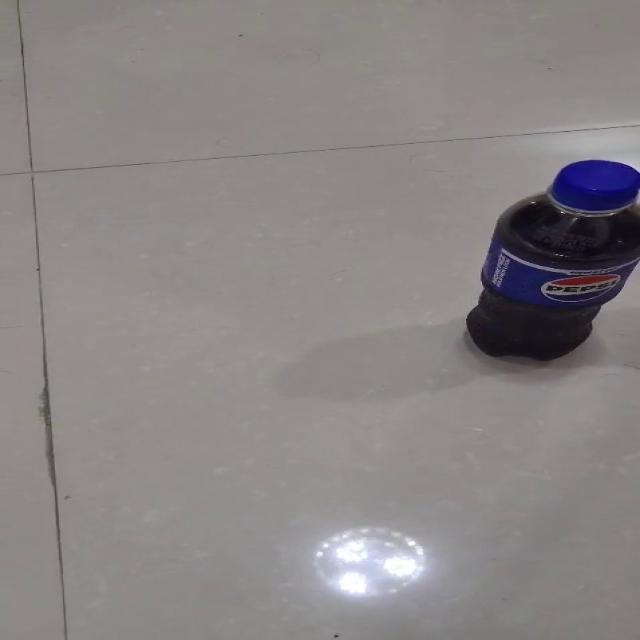plastic: (463, 158, 639, 362)
